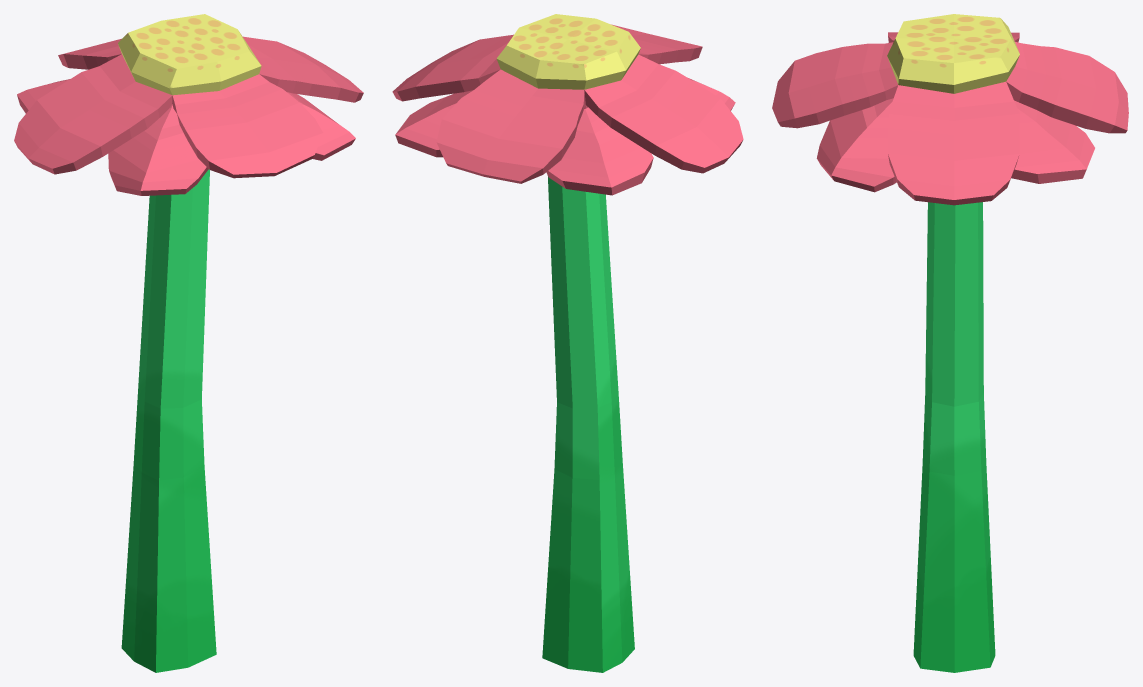
Rendered from pinkflower.glb.
The picture shows the model from 3 angles, left to right: view 1: azimuth 30°, elevation 25°; view 2: azimuth 150°, elevation 25°; view 3: azimuth 270°, elevation 25°; orthographic projection. The views are drawn at different scales.
Parts seen in each view (by area): view 1: Cube.001, Cube; view 2: Cube.001, Cube; view 3: Cube.001, Cube.
Part boxes in pixels (x1=…): Cube.001: x1=14, y1=14, x2=363, y2=195; Cube: x1=121, y1=169, x2=216, y2=672; Cube.001: x1=392, y1=14, x2=743, y2=195; Cube: x1=542, y1=176, x2=634, y2=672; Cube.001: x1=772, y1=14, x2=1128, y2=205; Cube: x1=913, y1=202, x2=995, y2=672.
Bounding box in the file's own units: 8.9 × 16.13 × 8.3.
2 materials, 2 textured.
